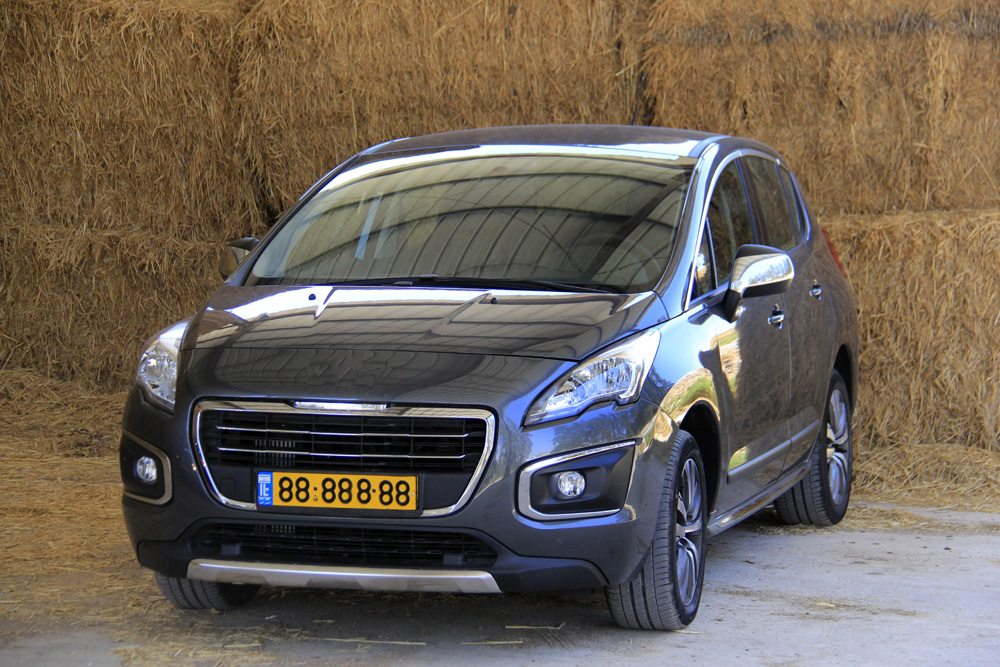licence: (252, 465, 424, 517)
